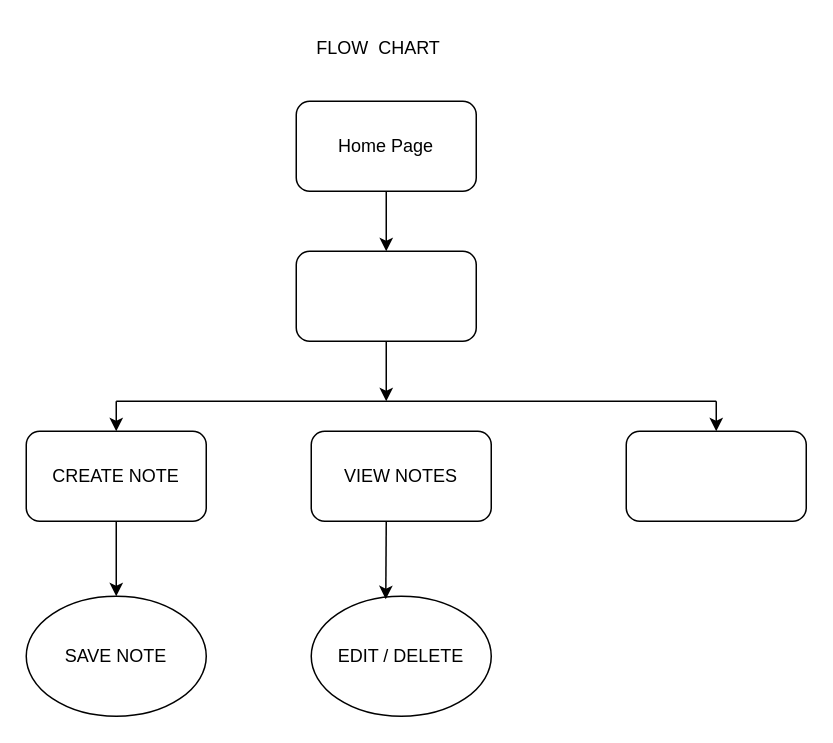
The diagram is 833 pixels wide and 743 high, and some of its shapes have lost their labels. Here are the shapes that lost their labels. From the top down, the box of each, then its label:
(295, 250, 476, 341): Login / SignUp
(625, 430, 806, 521): NAVBAR / LOGOUT
